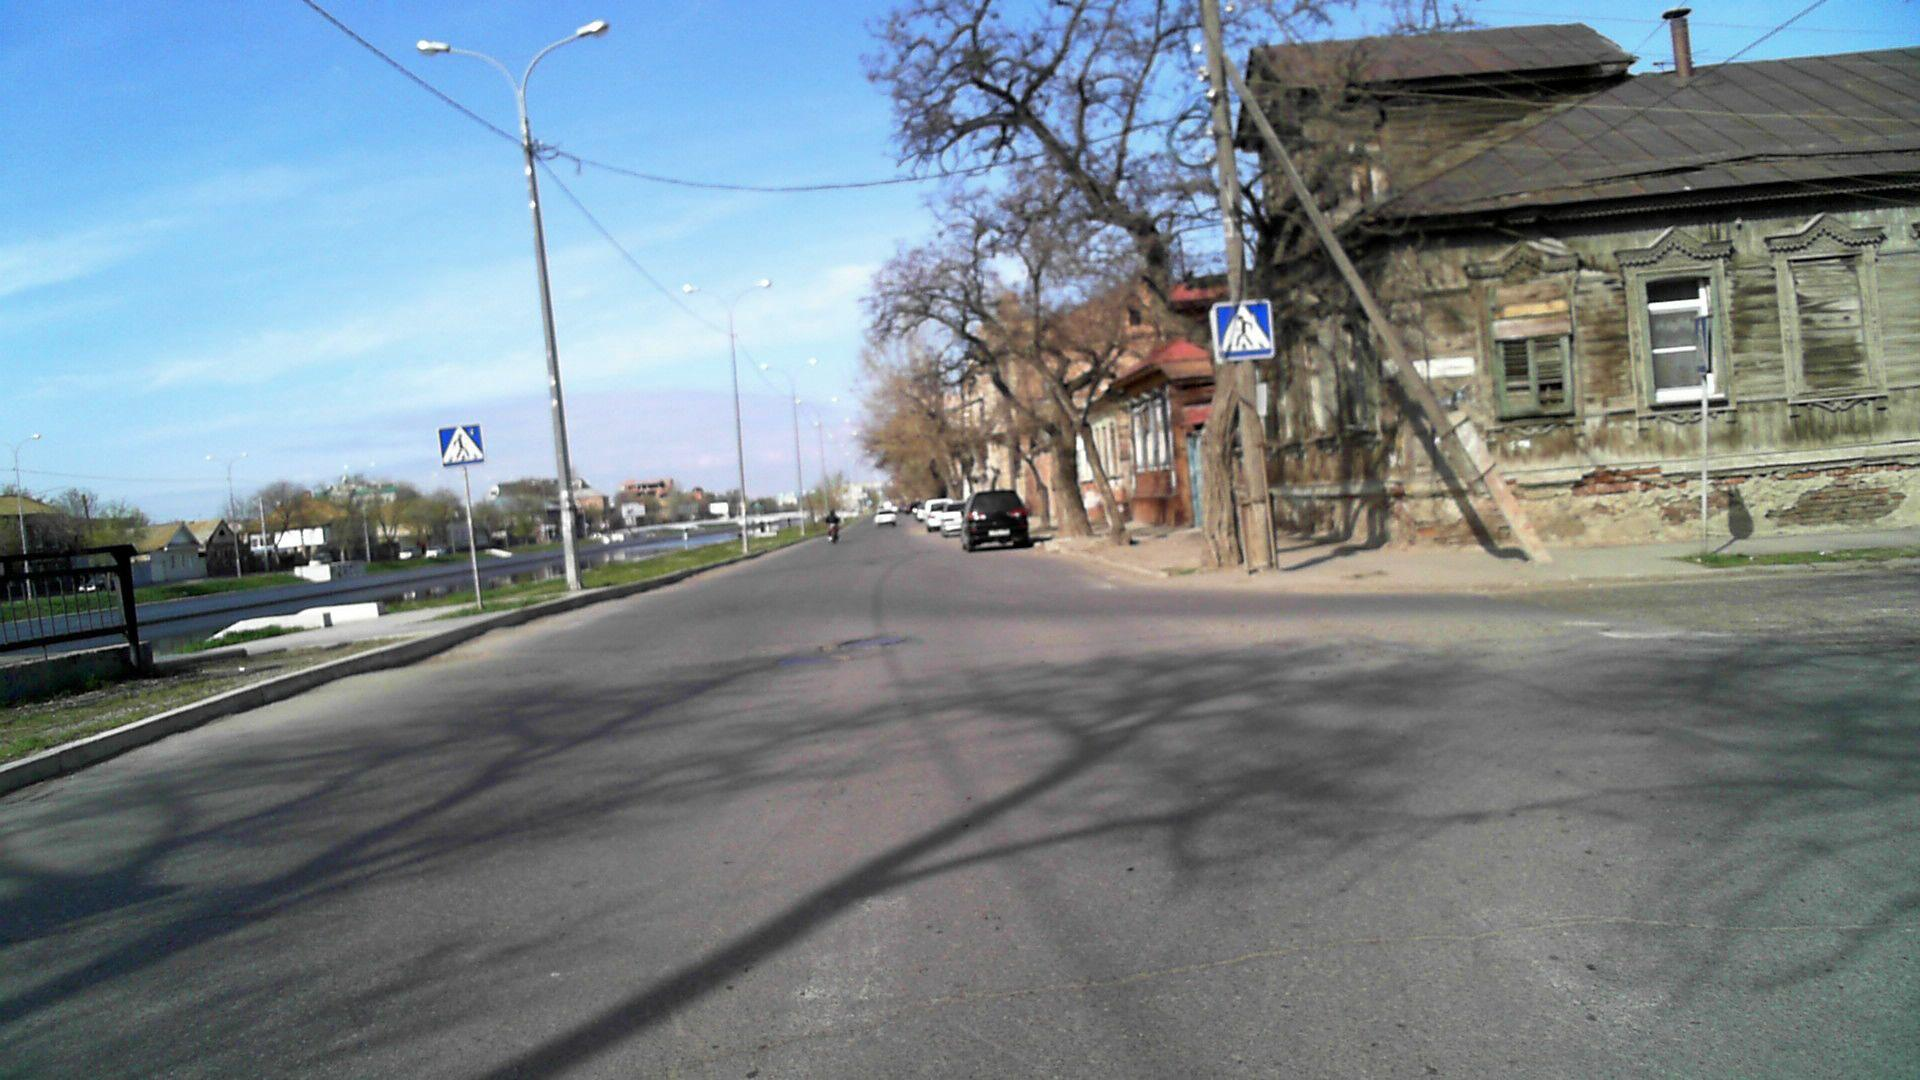5_19_1: (1208, 298, 1278, 368)
5_19_2: (440, 426, 481, 465)
